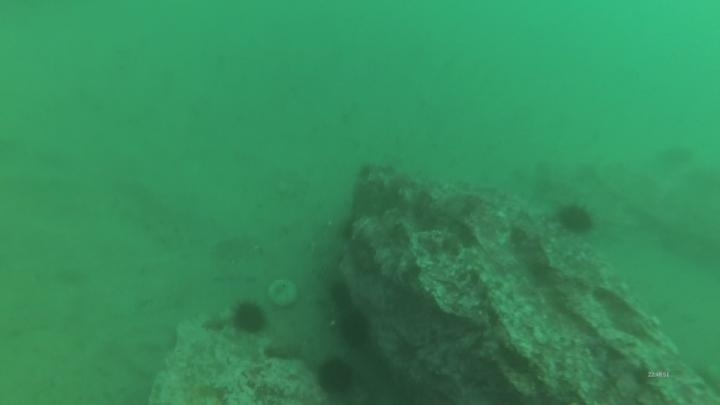echinus: (313, 355, 358, 399), (229, 298, 270, 337), (336, 308, 374, 350), (554, 201, 596, 237), (326, 278, 355, 311)
